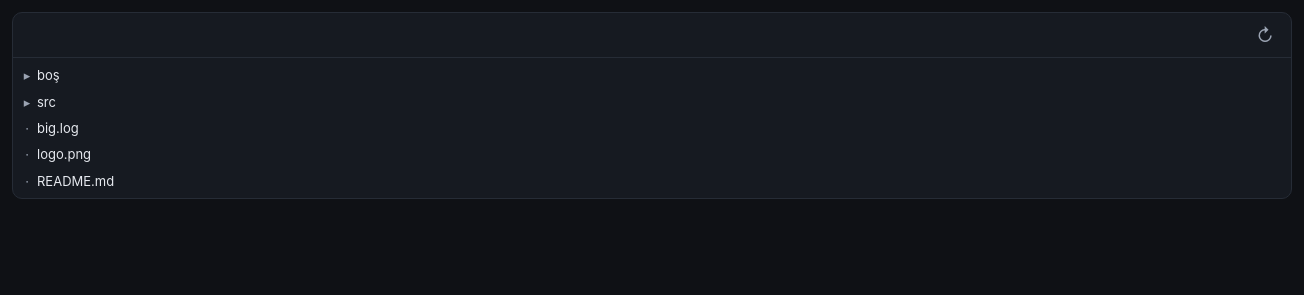
it: FilesPanel › Yenile reloads open folders and the previewed file
Click the button "▸ src": [27, 102] box 13,88 -> 1291,115
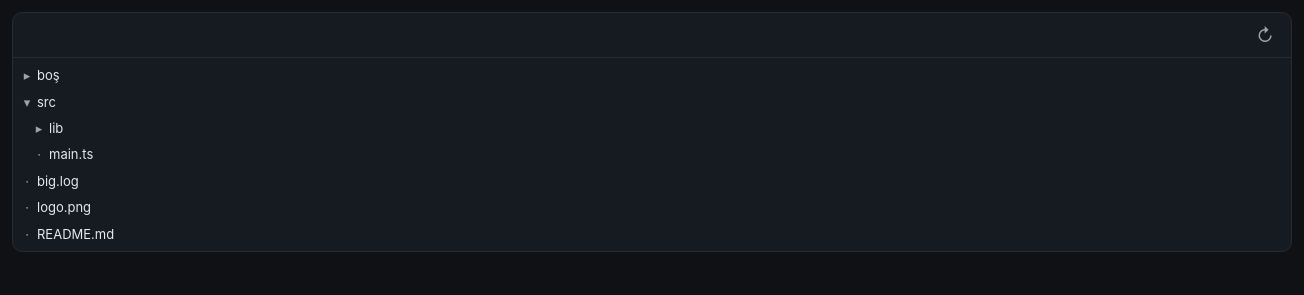
Click the button "· main.ts": [71, 154] box 13,141 -> 1291,168
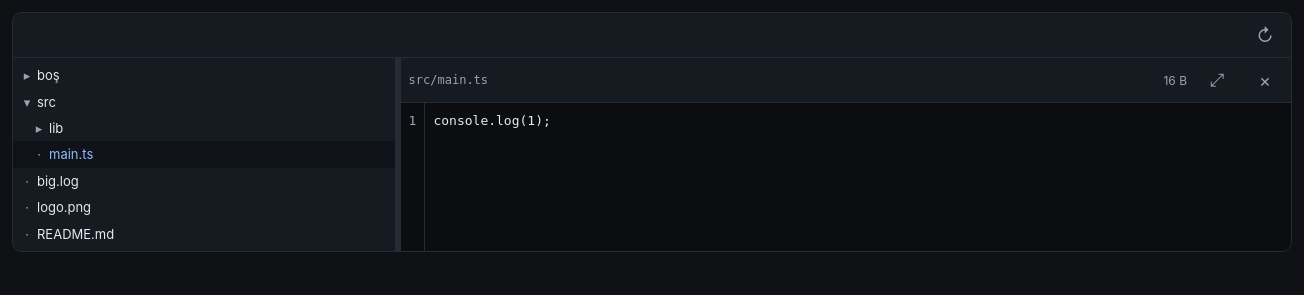
Click the button named "Yenile": [1265, 35] box 1243,13 -> 1287,57
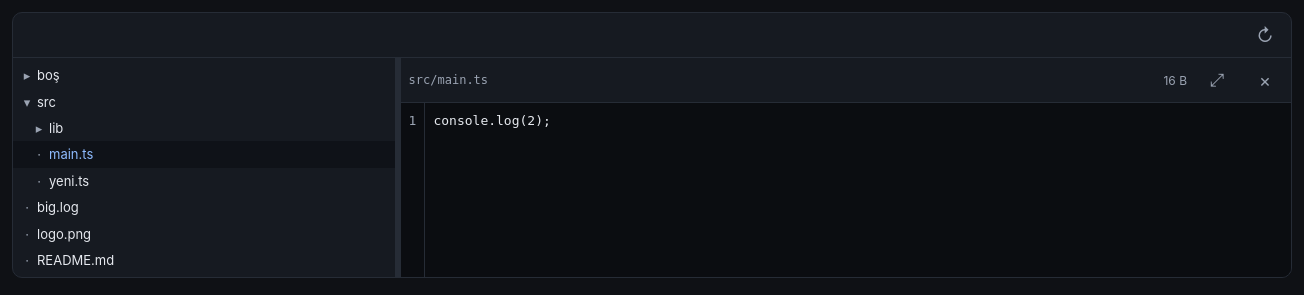
Check: the button "· yeni.ts" is shown, box 13,168 -> 395,194
